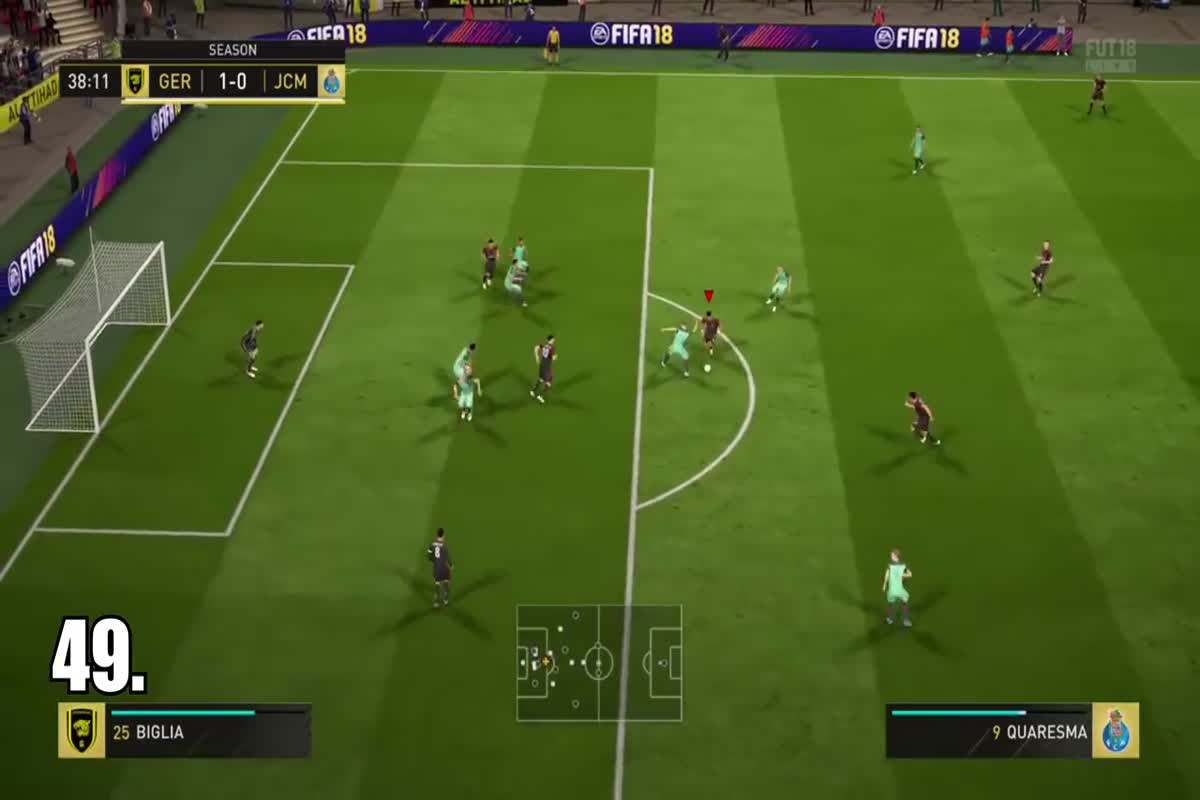ball: (696, 359, 719, 376)
